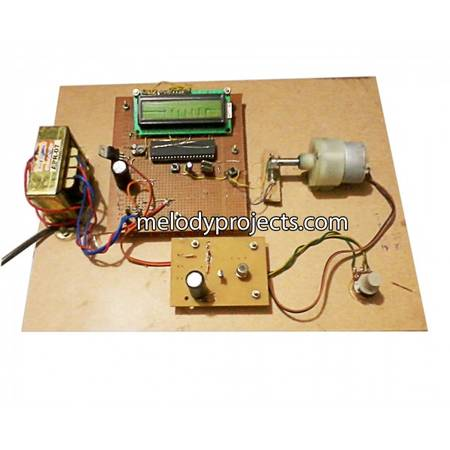capacitor: (111, 159, 132, 190), (186, 271, 207, 300), (186, 161, 193, 172)
